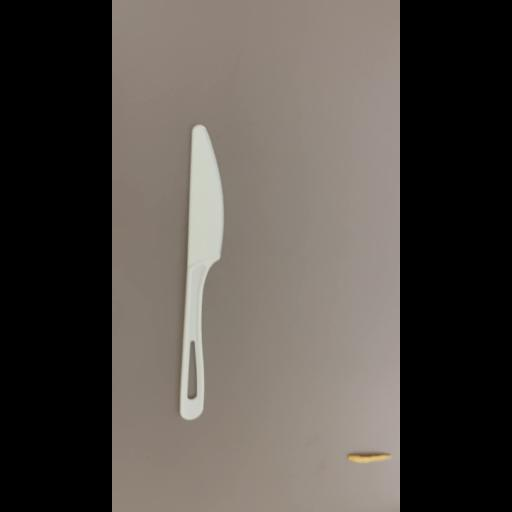utensil: (174, 110, 236, 428)
